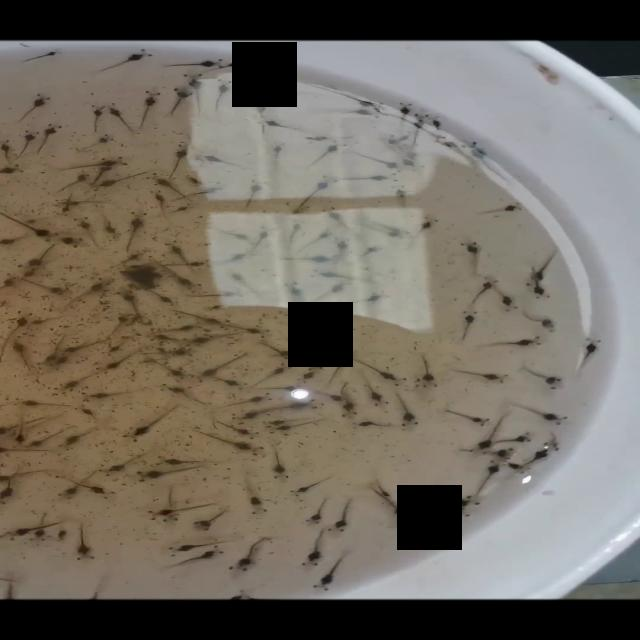shrimp2: (119, 399, 182, 445), (95, 48, 156, 76), (512, 401, 573, 427), (238, 473, 272, 518), (296, 526, 329, 569), (574, 333, 606, 377), (450, 365, 512, 386), (479, 335, 547, 354), (136, 83, 164, 129), (14, 89, 50, 124), (458, 237, 485, 282), (439, 406, 494, 428), (72, 519, 100, 562), (454, 306, 484, 344), (394, 389, 423, 428), (301, 492, 334, 525), (210, 78, 238, 113), (415, 351, 440, 389), (103, 101, 132, 133), (264, 140, 290, 175), (267, 444, 291, 480), (477, 201, 526, 218), (342, 172, 404, 184)
